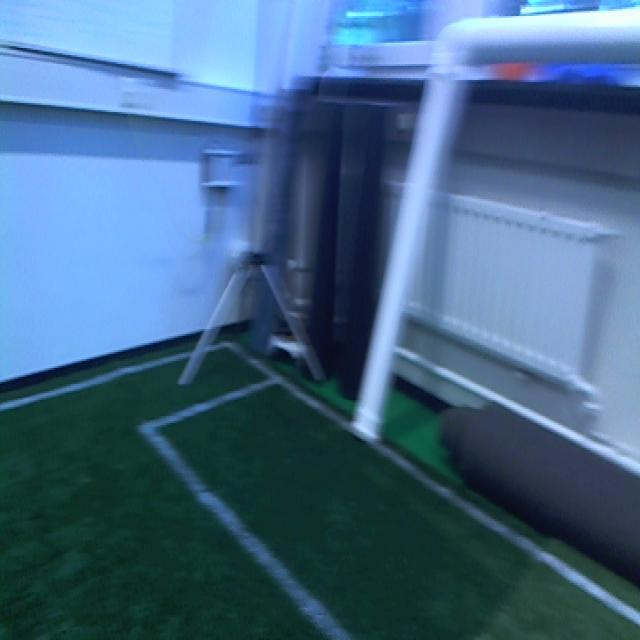goalpost: (354, 27, 472, 436)
